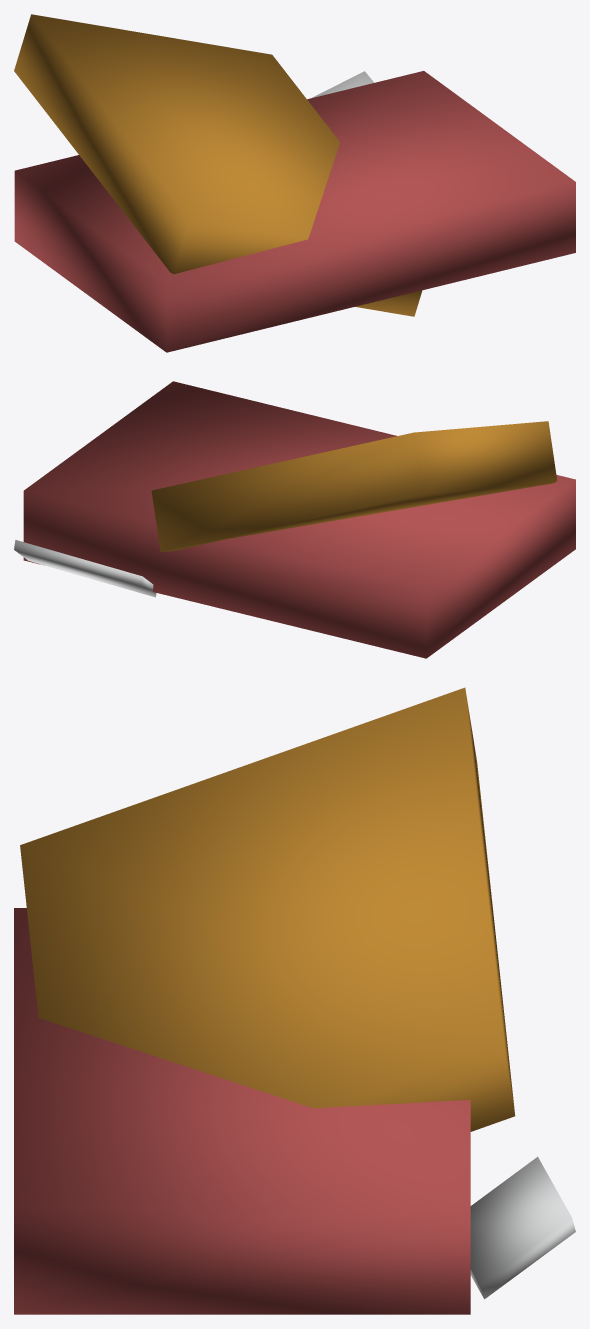
The model's file is split-level-house-wreck.glb.
The picture shows the model from 3 angles, top to bottom: view 1: azimuth 30°, elevation 25°; view 2: azimuth 150°, elevation 25°; view 3: azimuth 270°, elevation 25°; orthographic projection. The views are drawn at different scales.
Visible parts, largest first — view 1: world; view 2: world; view 3: world.
Boxes of the visible parts, x1,y1,x2,y2 form: world: (14, 14, 575, 352); world: (14, 381, 575, 658); world: (14, 687, 575, 1314).
Bounding box in the file's own units: 12 × 7.5 × 9.5.
